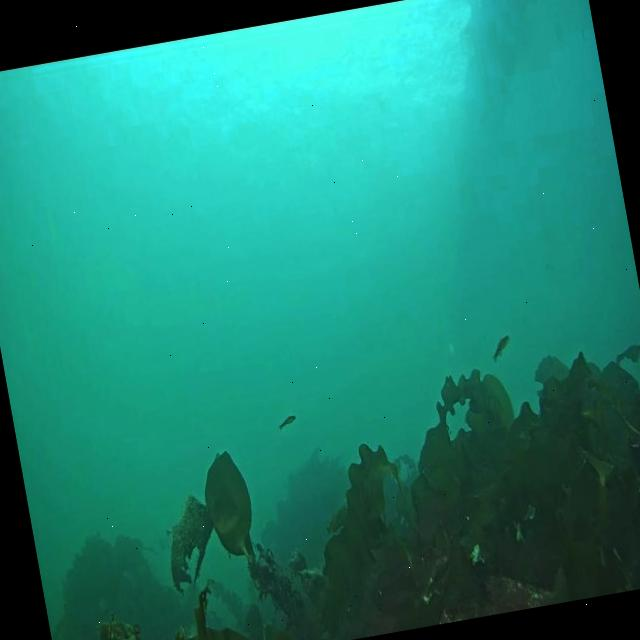fish: (489, 333, 514, 361), (276, 410, 300, 430)
